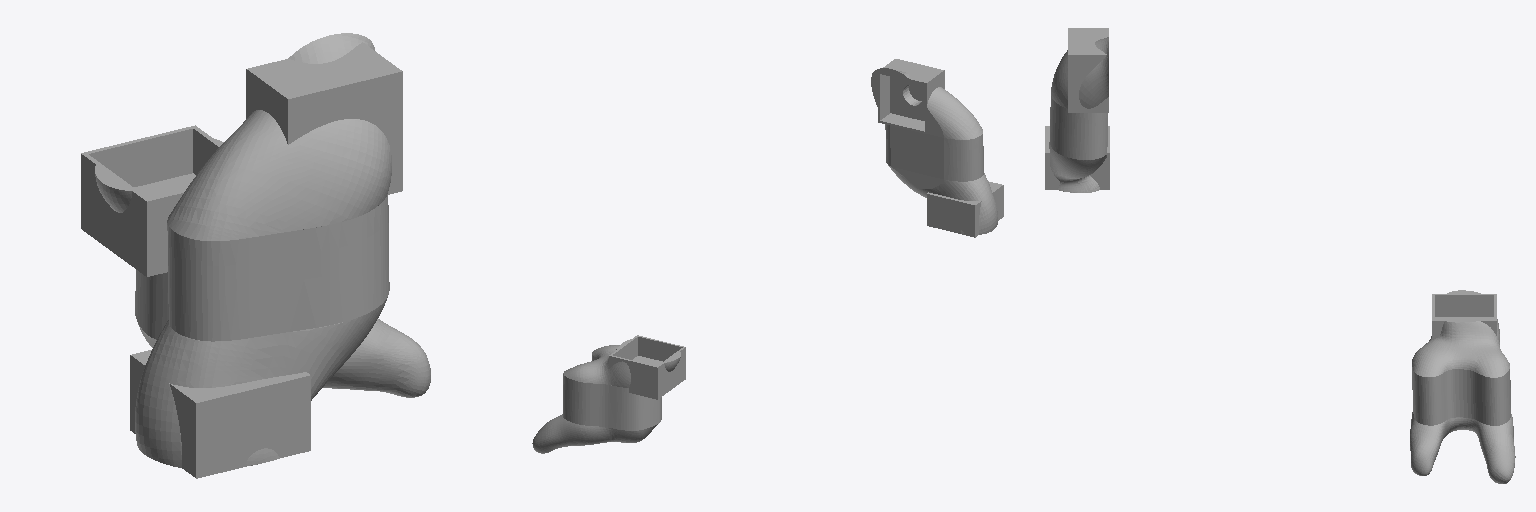
robot.urdf — FrogBot4_top-FrogBot4-x-8_bottom-FrogBot4-x-8:
<?xml version="1.0" ?>
<robot name="FrogBot4_top-FrogBot4-x-8_bottom-FrogBot4-x-8">

<material name="pla_5_percent_infill">
  <color rgba="0.700 0.700 0.700 1.000"/>
</material>

<link name="base_link">
  <inertial>
    <origin xyz="0 0 0" rpy="0 0 0"/>
    <mass value="1.4608203761339813"/>
    <inertia ixx="0.00496034401110324" iyy="0.010259632804669863" izz="0.010457868746855814" ixy="4.519338143051983e-05" iyz="5.808312742508133e-05" ixz="-0.001193761897574285"/>
  </inertial>
  <visual>
    <origin xyz="0 0 0" rpy="0 0 0"/>
    <geometry>
      <mesh filename="simple_meshes/base_link.stl" scale="0.001 0.001 0.001"/>
    </geometry>
    <material name="pla_5_percent_infill"/>
  </visual>
  <collision>
    <origin xyz="0 0 0" rpy="0 0 0"/>
    <geometry>
      <mesh filename="simple_meshes/base_link.stl" scale="0.001 0.001 0.001"/>
    </geometry>
  </collision>
</link>

<link name="body_1_0_1">
  <inertial>
    <origin xyz="-0.039935 -0.102508 -0.020563" rpy="0 0 0"/>
    <mass value="0.09222472070648204"/>
    <inertia ixx="0.00013437797535308322" iyy="0.0001514546771507831" izz="4.015762362987981e-05" ixy="1.046735819692818e-06" iyz="3.205570806482478e-06" ixz="-1.7004805851033827e-05"/>
  </inertial>
  <visual>
    <origin xyz="-0.039935 -0.102508 -0.020563" rpy="0 0 0"/>
    <geometry>
      <mesh filename="simple_meshes/body_1_0_1.stl" scale="0.001 0.001 0.001"/>
    </geometry>
    <material name="pla_5_percent_infill"/>
  </visual>
  <collision>
    <origin xyz="-0.039935 -0.102508 -0.020563" rpy="0 0 0"/>
    <geometry>
      <mesh filename="simple_meshes/body_1_0_1.stl" scale="0.001 0.001 0.001"/>
    </geometry>
  </collision>
</link>

<link name="body_1_1_1">
  <inertial>
    <origin xyz="0.084829 -0.102508 0.010182" rpy="0 0 0"/>
    <mass value="0.10897386600307592"/>
    <inertia ixx="0.0001108126226495405" iyy="0.00016453709370254743" izz="8.127708091953999e-05" ixy="-2.2585087915249612e-06" iyz="1.7464585093023097e-06" ixz="-3.0213331873257354e-05"/>
  </inertial>
  <visual>
    <origin xyz="0.084829 -0.102508 0.010182" rpy="0 0 0"/>
    <geometry>
      <mesh filename="simple_meshes/body_1_1_1.stl" scale="0.001 0.001 0.001"/>
    </geometry>
    <material name="pla_5_percent_infill"/>
  </visual>
  <collision>
    <origin xyz="0.084829 -0.102508 0.010182" rpy="0 0 0"/>
    <geometry>
      <mesh filename="simple_meshes/body_1_1_1.stl" scale="0.001 0.001 0.001"/>
    </geometry>
  </collision>
</link>

<link name="body_1_2_1">
  <inertial>
    <origin xyz="-0.032973 0.102508 -0.03352" rpy="0 0 0"/>
    <mass value="0.09830592588097135"/>
    <inertia ixx="0.00016376439125174438" iyy="0.00017916333632821187" izz="4.332398370064314e-05" ixy="-2.7387617692078937e-06" iyz="-1.4180528586924695e-05" ixz="-1.4380432514463678e-05"/>
  </inertial>
  <visual>
    <origin xyz="-0.032973 0.102508 -0.03352" rpy="0 0 0"/>
    <geometry>
      <mesh filename="simple_meshes/body_1_2_1.stl" scale="0.001 0.001 0.001"/>
    </geometry>
    <material name="pla_5_percent_infill"/>
  </visual>
  <collision>
    <origin xyz="-0.032973 0.102508 -0.03352" rpy="0 0 0"/>
    <geometry>
      <mesh filename="simple_meshes/body_1_2_1.stl" scale="0.001 0.001 0.001"/>
    </geometry>
  </collision>
</link>

<link name="body_1_3_1">
  <inertial>
    <origin xyz="0.075405 0.102508 -0.000907" rpy="0 0 0"/>
    <mass value="0.1153703493044613"/>
    <inertia ixx="0.0001214440313519684" iyy="0.00017627693288045708" izz="8.488718449974108e-05" ixy="9.672855059376234e-08" iyz="-1.8152384502487587e-06" ixz="-2.981738177163434e-05"/>
  </inertial>
  <visual>
    <origin xyz="0.075405 0.102508 -0.000907" rpy="0 0 0"/>
    <geometry>
      <mesh filename="simple_meshes/body_1_3_1.stl" scale="0.001 0.001 0.001"/>
    </geometry>
    <material name="pla_5_percent_infill"/>
  </visual>
  <collision>
    <origin xyz="0.075405 0.102508 -0.000907" rpy="0 0 0"/>
    <geometry>
      <mesh filename="simple_meshes/body_1_3_1.stl" scale="0.001 0.001 0.001"/>
    </geometry>
  </collision>
</link>

<link name="body_2_0_1">
  <inertial>
    <origin xyz="-0.025656 -0.145015 0.125436" rpy="0 0 0"/>
    <mass value="0.12455806429224664"/>
    <inertia ixx="0.00011162442957231289" iyy="0.00013380258809923308" izz="0.00012113228680450975" ixy="-1.8107543383748433e-07" iyz="1.128160045648155e-06" ixz="2.7343863581341188e-05"/>
  </inertial>
  <visual>
    <origin xyz="-0.025656 -0.145015 0.125436" rpy="0 0 0"/>
    <geometry>
      <mesh filename="simple_meshes/body_2_0_1.stl" scale="0.001 0.001 0.001"/>
    </geometry>
    <material name="pla_5_percent_infill"/>
  </visual>
  <collision>
    <origin xyz="-0.025656 -0.145015 0.125436" rpy="0 0 0"/>
    <geometry>
      <mesh filename="simple_meshes/body_2_0_1.stl" scale="0.001 0.001 0.001"/>
    </geometry>
  </collision>
</link>

<link name="body_2_1_1">
  <inertial>
    <origin xyz="0.114857 -0.145661 0.125438" rpy="0 0 0"/>
    <mass value="0.10601789197670694"/>
    <inertia ixx="8.435426068640565e-05" iyy="0.00011976583280184049" izz="8.58747946772113e-05" ixy="-2.881754624832174e-06" iyz="6.42635433037702e-06" ixz="2.792656892598006e-05"/>
  </inertial>
  <visual>
    <origin xyz="0.114857 -0.145661 0.125438" rpy="0 0 0"/>
    <geometry>
      <mesh filename="simple_meshes/body_2_1_1.stl" scale="0.001 0.001 0.001"/>
    </geometry>
    <material name="pla_5_percent_infill"/>
  </visual>
  <collision>
    <origin xyz="0.114857 -0.145661 0.125438" rpy="0 0 0"/>
    <geometry>
      <mesh filename="simple_meshes/body_2_1_1.stl" scale="0.001 0.001 0.001"/>
    </geometry>
  </collision>
</link>

<link name="body_2_2_1">
  <inertial>
    <origin xyz="-0.022601 0.152053 0.125436" rpy="0 0 0"/>
    <mass value="0.13449067238146464"/>
    <inertia ixx="0.00011995097694139818" iyy="0.00014793537286324036" izz="0.0001304464901445237" ixy="-3.890479524919438e-06" iyz="-9.763223322882195e-07" ixz="3.0559322923909065e-05"/>
  </inertial>
  <visual>
    <origin xyz="-0.022601 0.152053 0.125436" rpy="0 0 0"/>
    <geometry>
      <mesh filename="simple_meshes/body_2_2_1.stl" scale="0.001 0.001 0.001"/>
    </geometry>
    <material name="pla_5_percent_infill"/>
  </visual>
  <collision>
    <origin xyz="-0.022601 0.152053 0.125436" rpy="0 0 0"/>
    <geometry>
      <mesh filename="simple_meshes/body_2_2_1.stl" scale="0.001 0.001 0.001"/>
    </geometry>
  </collision>
</link>

<link name="body_2_3_1">
  <inertial>
    <origin xyz="0.12145 0.146005 0.125436" rpy="0 0 0"/>
    <mass value="0.11207993545725627"/>
    <inertia ixx="0.00010280922282573934" iyy="0.00010971184515153661" izz="0.00010398831595938123" ixy="5.82720063077081e-06" iyz="-1.1396212033841328e-05" ixz="1.952218558309328e-05"/>
  </inertial>
  <visual>
    <origin xyz="0.12145 0.146005 0.125436" rpy="0 0 0"/>
    <geometry>
      <mesh filename="simple_meshes/body_2_3_1.stl" scale="0.001 0.001 0.001"/>
    </geometry>
    <material name="pla_5_percent_infill"/>
  </visual>
  <collision>
    <origin xyz="0.12145 0.146005 0.125436" rpy="0 0 0"/>
    <geometry>
      <mesh filename="simple_meshes/body_2_3_1.stl" scale="0.001 0.001 0.001"/>
    </geometry>
  </collision>
</link>

<joint name="joint_1_0" type="revolute">
  <origin xyz="0.039935 0.102508 0.020563" rpy="0 0 0"/>
  <parent link="base_link"/>
  <child link="body_1_0_1"/>
  <axis xyz="1.0 0.0 0.0"/>
  <limit upper="1.2" lower="-1.2" effort="3.8" velocity="5.4"/>
</joint>
<transmission name="joint_1_0_tran">
  <type>transmission_interface/SimpleTransmission</type>
  <joint name="joint_1_0">
    <hardwareInterface>PositionJointInterface</hardwareInterface>
  </joint>
  <actuator name="joint_1_0_actr">
    <hardwareInterface>PositionJointInterface</hardwareInterface>
    <mechanicalReduction>1</mechanicalReduction>
  </actuator>
</transmission>

<joint name="joint_1_1" type="revolute">
  <origin xyz="-0.084829 0.102508 -0.010182" rpy="0 0 0"/>
  <parent link="base_link"/>
  <child link="body_1_1_1"/>
  <axis xyz="1.0 0.0 0.0"/>
  <limit upper="1.2" lower="-1.2" effort="3.8" velocity="5.4"/>
</joint>
<transmission name="joint_1_1_tran">
  <type>transmission_interface/SimpleTransmission</type>
  <joint name="joint_1_1">
    <hardwareInterface>PositionJointInterface</hardwareInterface>
  </joint>
  <actuator name="joint_1_1_actr">
    <hardwareInterface>PositionJointInterface</hardwareInterface>
    <mechanicalReduction>1</mechanicalReduction>
  </actuator>
</transmission>

<joint name="joint_1_2" type="revolute">
  <origin xyz="0.032973 -0.102508 0.03352" rpy="0 0 0"/>
  <parent link="base_link"/>
  <child link="body_1_2_1"/>
  <axis xyz="1.0 0.0 0.0"/>
  <limit upper="1.2" lower="-1.2" effort="3.8" velocity="5.4"/>
</joint>
<transmission name="joint_1_2_tran">
  <type>transmission_interface/SimpleTransmission</type>
  <joint name="joint_1_2">
    <hardwareInterface>PositionJointInterface</hardwareInterface>
  </joint>
  <actuator name="joint_1_2_actr">
    <hardwareInterface>PositionJointInterface</hardwareInterface>
    <mechanicalReduction>1</mechanicalReduction>
  </actuator>
</transmission>

<joint name="joint_1_3" type="revolute">
  <origin xyz="-0.075405 -0.102508 0.000907" rpy="0 0 0"/>
  <parent link="base_link"/>
  <child link="body_1_3_1"/>
  <axis xyz="1.0 0.0 0.0"/>
  <limit upper="1.2" lower="-1.2" effort="3.8" velocity="5.4"/>
</joint>
<transmission name="joint_1_3_tran">
  <type>transmission_interface/SimpleTransmission</type>
  <joint name="joint_1_3">
    <hardwareInterface>PositionJointInterface</hardwareInterface>
  </joint>
  <actuator name="joint_1_3_actr">
    <hardwareInterface>PositionJointInterface</hardwareInterface>
    <mechanicalReduction>1</mechanicalReduction>
  </actuator>
</transmission>

<joint name="joint_2_0" type="revolute">
  <origin xyz="-0.014279 0.042507 -0.145999" rpy="0 0 0"/>
  <parent link="body_1_0_1"/>
  <child link="body_2_0_1"/>
  <axis xyz="1.0 0.0 0.0"/>
  <limit upper="1.2" lower="-1.2" effort="3.8" velocity="5.4"/>
</joint>
<transmission name="joint_2_0_tran">
  <type>transmission_interface/SimpleTransmission</type>
  <joint name="joint_2_0">
    <hardwareInterface>PositionJointInterface</hardwareInterface>
  </joint>
  <actuator name="joint_2_0_actr">
    <hardwareInterface>PositionJointInterface</hardwareInterface>
    <mechanicalReduction>1</mechanicalReduction>
  </actuator>
</transmission>

<joint name="joint_2_1" type="revolute">
  <origin xyz="-0.030028 0.043153 -0.115256" rpy="0 0 0"/>
  <parent link="body_1_1_1"/>
  <child link="body_2_1_1"/>
  <axis xyz="1.0 0.0 0.0"/>
  <limit upper="1.2" lower="-1.2" effort="3.8" velocity="5.4"/>
</joint>
<transmission name="joint_2_1_tran">
  <type>transmission_interface/SimpleTransmission</type>
  <joint name="joint_2_1">
    <hardwareInterface>PositionJointInterface</hardwareInterface>
  </joint>
  <actuator name="joint_2_1_actr">
    <hardwareInterface>PositionJointInterface</hardwareInterface>
    <mechanicalReduction>1</mechanicalReduction>
  </actuator>
</transmission>

<joint name="joint_2_2" type="revolute">
  <origin xyz="-0.010372 -0.049545 -0.158956" rpy="0 0 0"/>
  <parent link="body_1_2_1"/>
  <child link="body_2_2_1"/>
  <axis xyz="1.0 0.0 0.0"/>
  <limit upper="1.2" lower="-1.2" effort="3.8" velocity="5.4"/>
</joint>
<transmission name="joint_2_2_tran">
  <type>transmission_interface/SimpleTransmission</type>
  <joint name="joint_2_2">
    <hardwareInterface>PositionJointInterface</hardwareInterface>
  </joint>
  <actuator name="joint_2_2_actr">
    <hardwareInterface>PositionJointInterface</hardwareInterface>
    <mechanicalReduction>1</mechanicalReduction>
  </actuator>
</transmission>

<joint name="joint_2_3" type="revolute">
  <origin xyz="-0.046045 -0.043497 -0.126343" rpy="0 0 0"/>
  <parent link="body_1_3_1"/>
  <child link="body_2_3_1"/>
  <axis xyz="1.0 0.0 0.0"/>
  <limit upper="1.2" lower="-1.2" effort="3.8" velocity="5.4"/>
</joint>
<transmission name="joint_2_3_tran">
  <type>transmission_interface/SimpleTransmission</type>
  <joint name="joint_2_3">
    <hardwareInterface>PositionJointInterface</hardwareInterface>
  </joint>
  <actuator name="joint_2_3_actr">
    <hardwareInterface>PositionJointInterface</hardwareInterface>
    <mechanicalReduction>1</mechanicalReduction>
  </actuator>
</transmission>

</robot>

--- What the picture shows (computed from the rendered views, not written in the file) ---
The picture shows the robot from 3 angles, left to right: view 1: azimuth 30°, elevation 25°; view 2: azimuth 150°, elevation 25°; view 3: azimuth 270°, elevation 25°; orthographic projection.
Model FrogBot4_top-FrogBot4-x-8_bottom-FrogBot4-x-8 with 9 links and 8 joints (8 revolute), rooted at base_link, posed every joint at zero.
Links seen in each view (by area): view 1: body_1_3_1, body_2_0_1; view 2: body_1_3_1, body_2_0_1; view 3: body_2_0_1, body_1_3_1.
Link boxes in pixels (bbox=[...]): body_1_3_1: bbox=[130, 33, 402, 478]; body_2_0_1: bbox=[81, 125, 430, 397]; body_1_3_1: bbox=[871, 59, 1003, 237]; body_2_0_1: bbox=[532, 335, 685, 453]; body_2_0_1: bbox=[1410, 290, 1515, 483]; body_1_3_1: bbox=[1045, 28, 1109, 192].
Bounding box of the posed robot: 0.2744 × 0.3542 × 0.2855 m (x, y, z).
2 mesh visuals loaded from 9 distinct referenced files (2 binary STL); not drawn: 7 (reference not matched to a file when rendering).